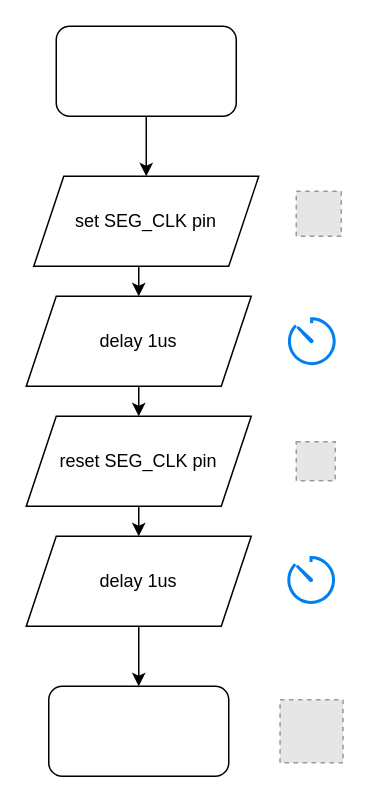
Some shapes in this 371 by 803 pixel diagram are drawn without their labels. Grey dashed boxes stand in for pictures. Each missing label, with the centre of its shape:
return: (138,730)
void SEG_clk_2us(): (145,70)
